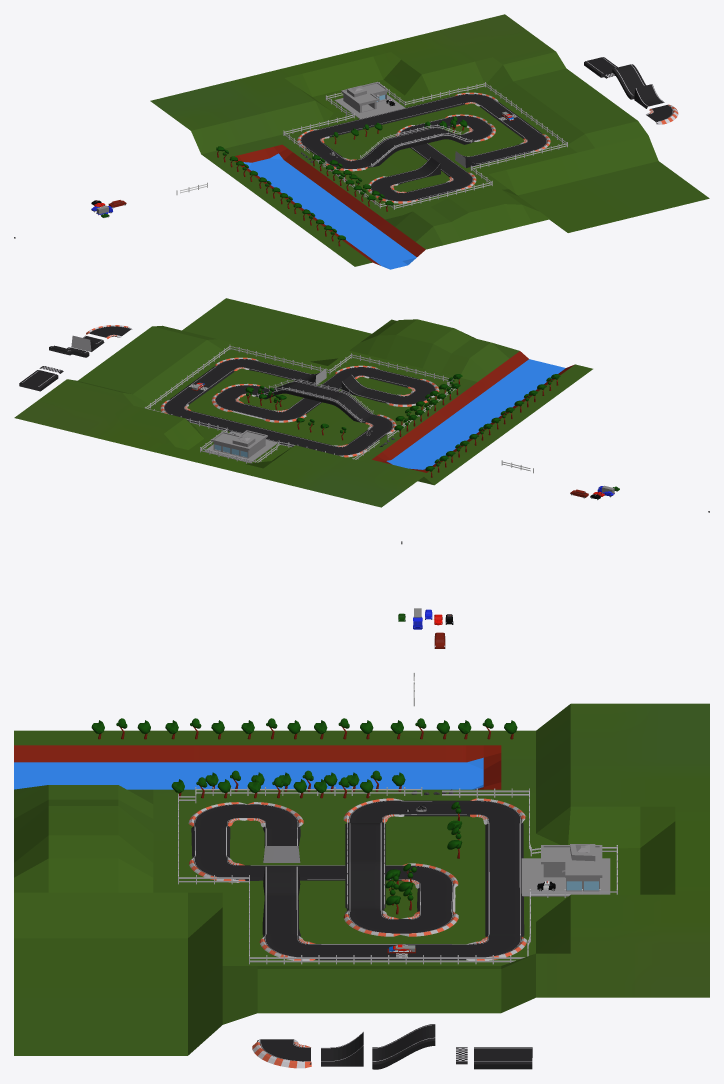
The model's file is unity_car_race_assets.fbx.
3 views of the same model, one above another, from view 1: azimuth 30°, elevation 25°; view 2: azimuth 150°, elevation 25°; view 3: azimuth 270°, elevation 25° (orthographic). The views are drawn at different scales.
Visible parts, largest first — view 1: Terrain, Track, Fence_scene, Tree, Police_Station, Plane.002, Plane.001, Plane, Plane.004; view 2: Terrain, Track, Fence_scene, Tree, Police_Station, Plane.004, Plane, Plane.001; view 3: Terrain, Track, Tree, Fence_scene, Police_Station, Plane.002, Plane, Plane.004, Plane.001.
Part boxes in pixels (box(x1,y1,x2,y2)): Terrain: box(150, 14, 709, 269); Track: box(297, 92, 550, 203); Fence_scene: box(283, 82, 567, 209); Tree: box(216, 116, 467, 246); Police_Station: box(334, 81, 405, 119); Plane.002: box(612, 64, 646, 99); Plane.001: box(634, 84, 664, 108); Plane: box(646, 104, 678, 124); Plane.004: box(584, 57, 617, 77); Terrain: box(14, 298, 592, 507); Track: box(160, 357, 439, 457); Fence_scene: box(144, 345, 456, 463); Tree: box(245, 374, 560, 477); Police_Station: box(204, 430, 278, 462); Plane.004: box(19, 370, 58, 391); Plane: box(86, 325, 132, 338); Plane.001: box(71, 335, 104, 351); Terrain: box(14, 703, 709, 1055); Track: box(188, 798, 526, 960); Tree: box(91, 718, 517, 914); Fence_scene: box(178, 787, 617, 964); Police_Station: box(521, 844, 610, 896); Plane.002: box(372, 1024, 435, 1069); Plane: box(252, 1039, 311, 1068); Plane.004: box(474, 1047, 532, 1069); Plane.001: box(321, 1032, 363, 1066).
Size of the model in its own units: 28935 by 1550 by 16274.
15 materials, 1 textured.
